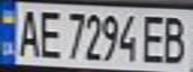2: (81, 9, 103, 61)
4: (118, 11, 142, 63)
7: (60, 8, 84, 61)
9: (100, 10, 121, 62)
A: (12, 6, 42, 58)
B: (157, 11, 193, 65)
E: (139, 11, 172, 64), (33, 6, 63, 58)
